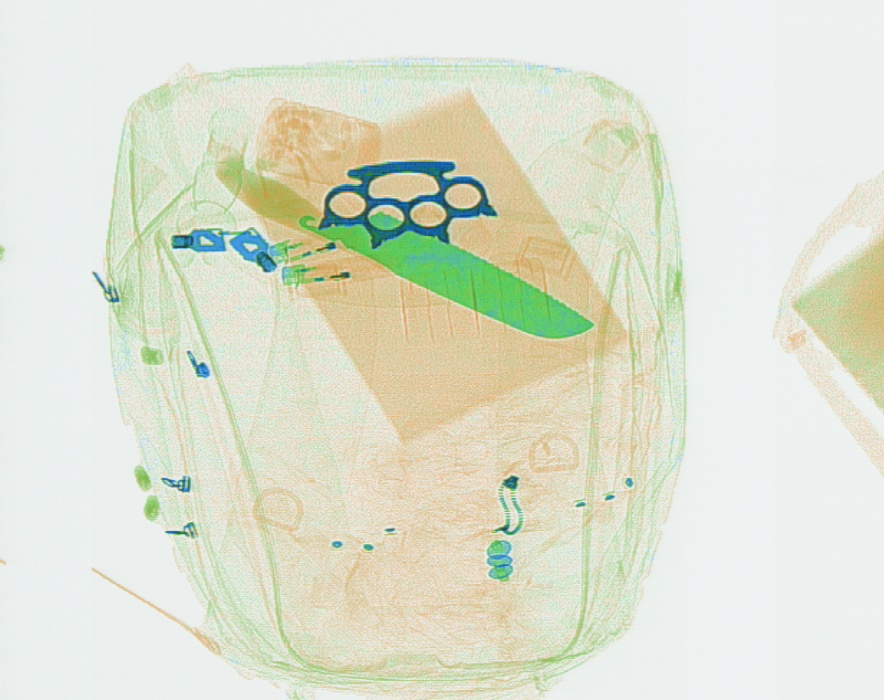knife: (215, 148, 600, 342)
lighter: (262, 210, 382, 265), (280, 248, 402, 289)
